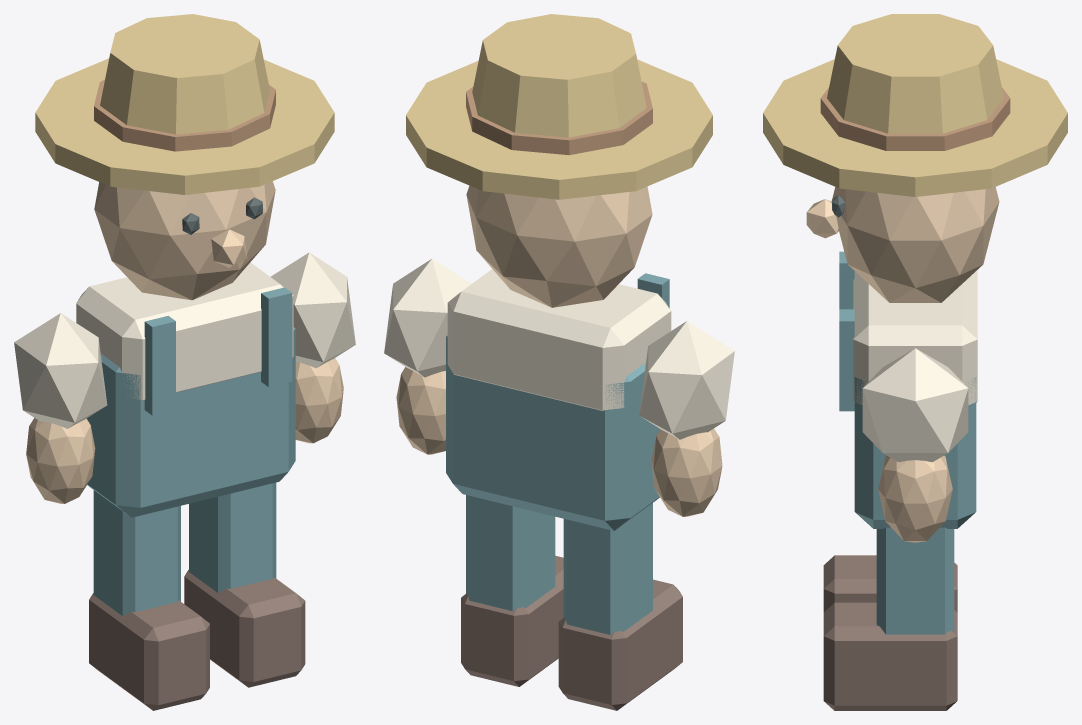
The model's file is farmer.glb.
The picture shows the model from 3 angles, left to right: view 1: azimuth 30°, elevation 25°; view 2: azimuth 150°, elevation 25°; view 3: azimuth 270°, elevation 25°; orthographic projection. The views are drawn at different scales.
Parts seen in each view (by area): view 1: farmer; view 2: farmer; view 3: farmer.
Part boxes in pixels (x1=…): farmer: x1=14, y1=14, x2=355, y2=710; farmer: x1=384, y1=14, x2=734, y2=710; farmer: x1=763, y1=14, x2=1067, y2=710.
Size of the model in its own units: 1.23 by 2.24 by 0.98.
